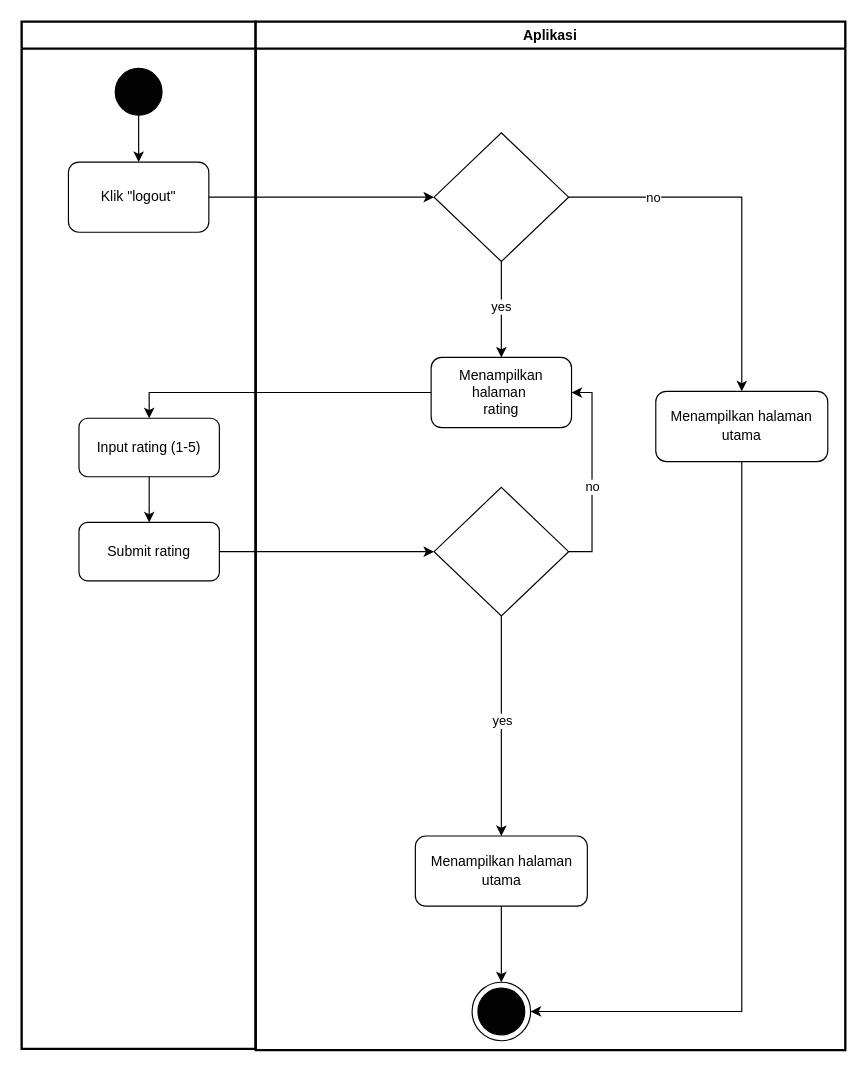
Some shapes in this 866 by 1071 pixel diagram are drawn without their labels. The shapes that lost their labels are listed below. From the top down, each one's box as (x1, y1, x2, y2) in pixels, then its label:
(433, 132, 569, 261): Validasi tanggal akhir langganan
(20, 20, 256, 1049): Kasir
(433, 486, 569, 616): Sistem menyimpan rating
